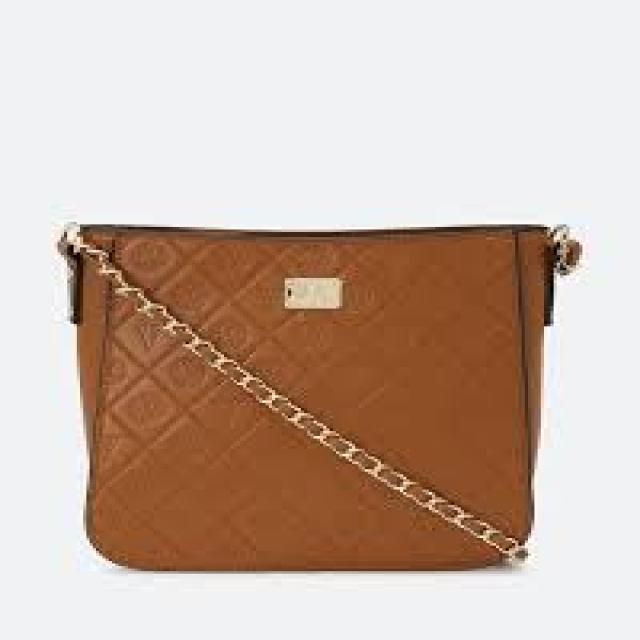handbag: (54, 219, 580, 571)
